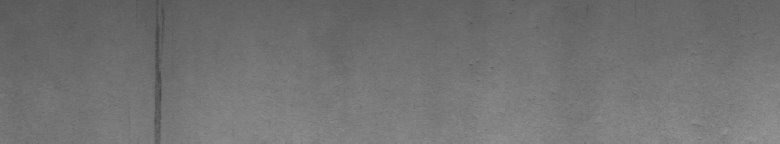hd: (149, 9, 167, 136)
